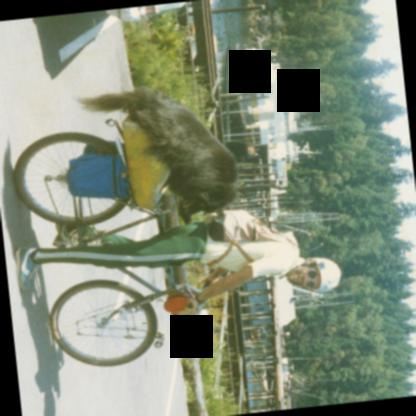backpack: (206, 207, 281, 267)
handbag: (69, 154, 129, 197)
